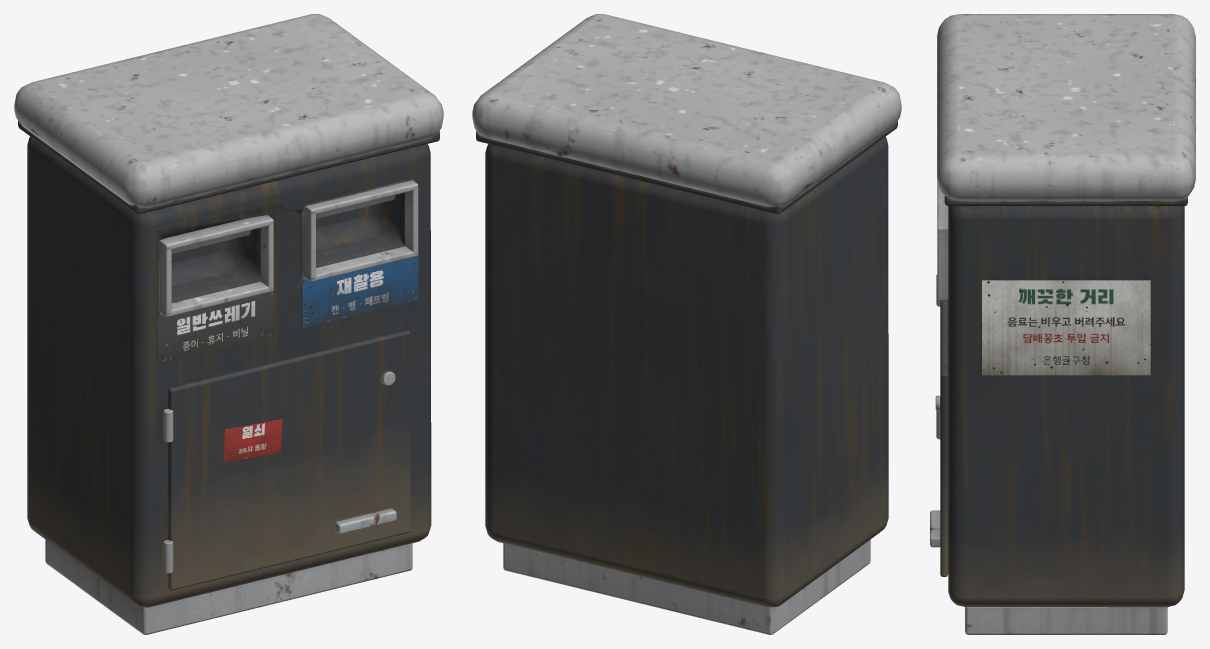
File: StreetTrashCan.fbx
3 renders of one model, left to right at view 1: azimuth 30°, elevation 25°; view 2: azimuth 150°, elevation 25°; view 3: azimuth 270°, elevation 25°, orthographic.
Parts seen in each view (by area): view 1: StreetTrashCan_Body, StreetTrashCan_Door; view 2: StreetTrashCan_Body; view 3: StreetTrashCan_Body, StreetTrashCan_Door.
Part boxes in pixels (box(x1,y1,x2,y2)): StreetTrashCan_Body: box(14, 14, 443, 634); StreetTrashCan_Door: box(168, 330, 410, 590); StreetTrashCan_Body: box(472, 14, 901, 634); StreetTrashCan_Body: box(936, 14, 1195, 634); StreetTrashCan_Door: box(930, 300, 948, 576).
Size of the model in its own units: 0.66 by 0.95 by 0.472.
